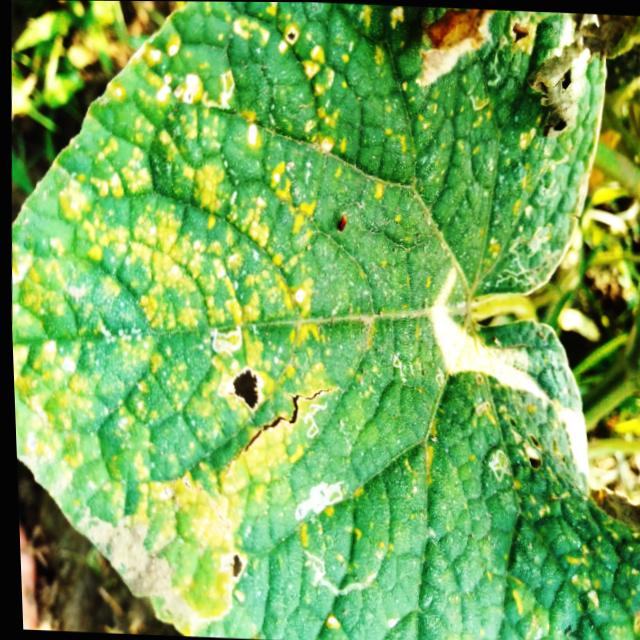Downy-Mildew: (9, 1, 640, 640)
